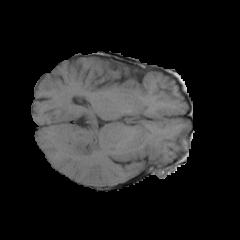glioma: (71, 131, 109, 156)
